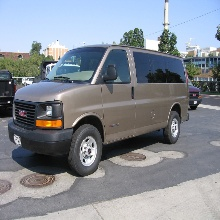no damage: (9, 45, 189, 174), (1, 69, 16, 115)
